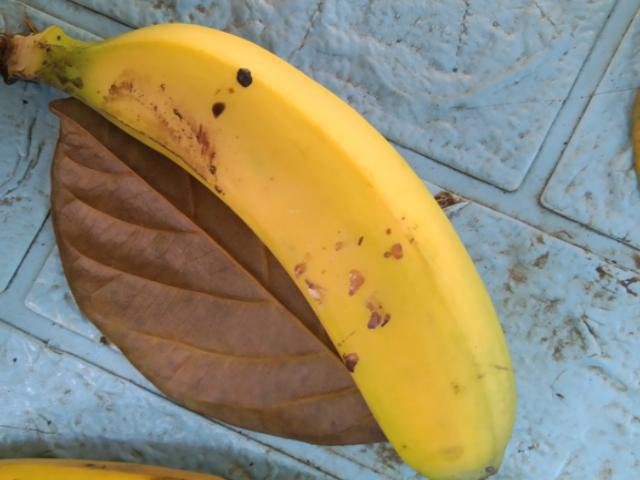ripe: (99, 26, 538, 479)
